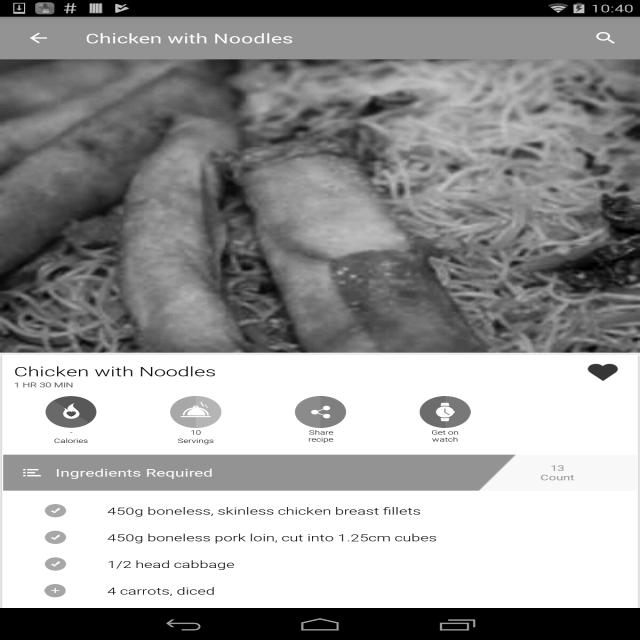Button: (8, 332, 318, 364), (322, 332, 632, 364), (8, 366, 318, 398), (322, 366, 632, 398), (513, 396, 626, 428)
ImageButton: (9, 17, 68, 59)
ImageView: (0, 59, 640, 353), (0, 59, 640, 326), (0, 445, 640, 640), (146, 454, 338, 594), (354, 454, 546, 594), (562, 454, 640, 594), (14, 396, 128, 428), (138, 396, 252, 428), (264, 396, 378, 428), (388, 396, 502, 428), (567, 355, 637, 399), (3, 557, 107, 571), (3, 504, 107, 517), (3, 531, 107, 544), (3, 584, 107, 597)
TextView: (4, 454, 478, 490), (11, 406, 526, 435), (0, 286, 640, 299), (14, 362, 468, 380), (107, 504, 626, 518), (107, 557, 626, 571), (107, 584, 626, 598), (107, 531, 626, 544), (478, 454, 637, 490), (14, 380, 626, 389), (85, 29, 294, 47), (146, 594, 338, 610), (354, 594, 546, 610), (526, 406, 630, 435), (478, 366, 637, 379), (562, 594, 640, 620), (264, 428, 378, 443), (388, 428, 502, 443), (580, 22, 632, 54), (14, 436, 128, 445), (138, 436, 252, 445), (14, 428, 128, 436), (138, 428, 252, 436)
